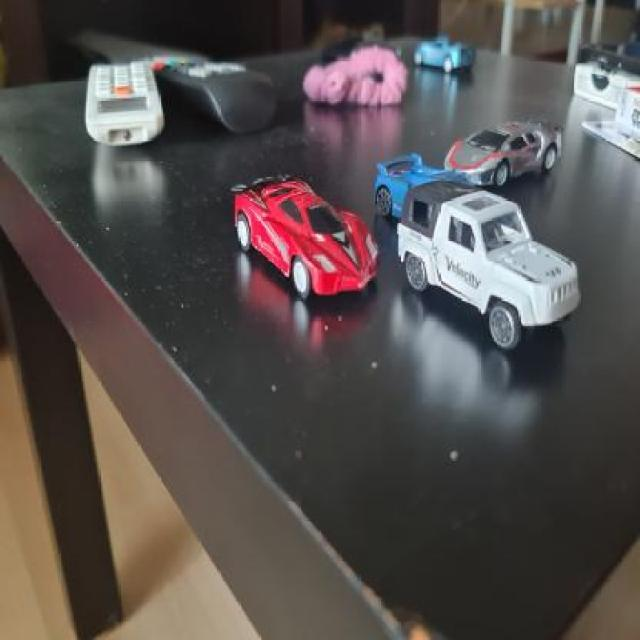car: (406, 172, 586, 371), (222, 168, 386, 310), (441, 117, 567, 191), (366, 148, 472, 222), (412, 32, 476, 80)
